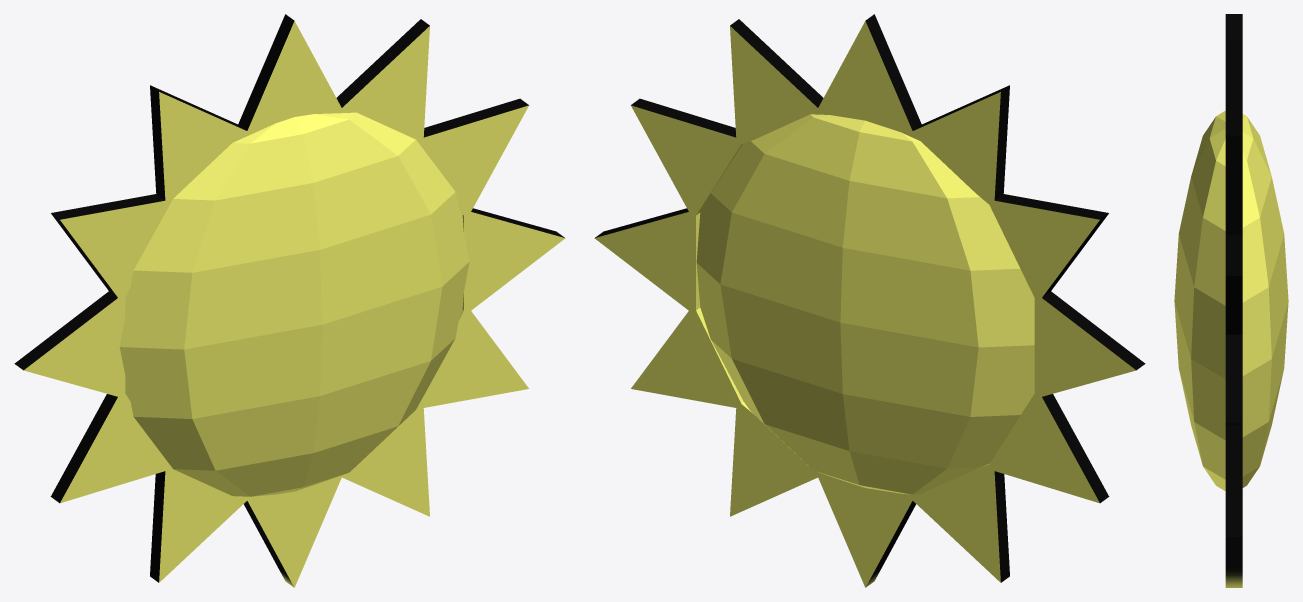
Rendered from Sun.fbx.
3 renders of one model, left to right at view 1: azimuth 30°, elevation 25°; view 2: azimuth 150°, elevation 25°; view 3: azimuth 270°, elevation 25°, orthographic. The views are drawn at different scales.
Parts seen in each view (by area): view 1: Sphere, Plane; view 2: Sphere, Plane; view 3: Sphere, Plane.
Part boxes in pixels (box(x1,y1,x2,y2)): Sphere: box(119, 112, 469, 496); Plane: box(14, 14, 565, 587); Sphere: box(696, 114, 1034, 494); Plane: box(594, 14, 1145, 587); Sphere: box(1174, 111, 1288, 490); Plane: box(1225, 14, 1242, 587).
Size of the model in its own units: 594 by 594 by 118.
1 material, 1 textured.
